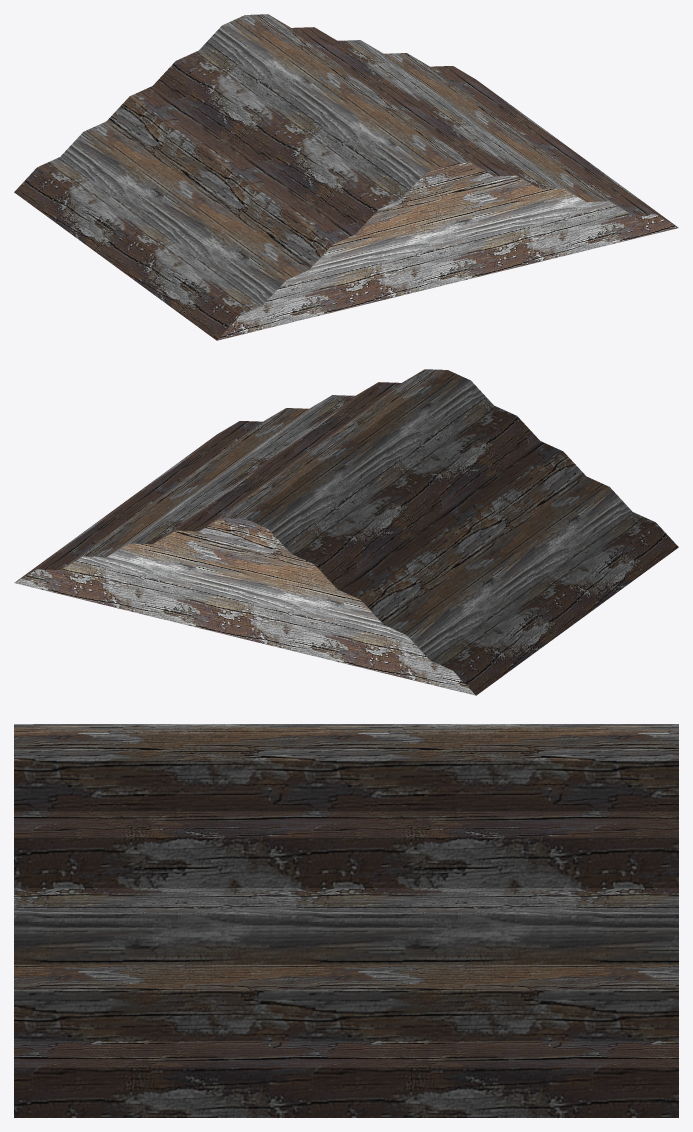
Rendered from minewood1.fbx.
3 renders of one model, top to bottom at view 1: azimuth 30°, elevation 25°; view 2: azimuth 150°, elevation 25°; view 3: azimuth 270°, elevation 25°, orthographic. The views are drawn at different scales.
Parts seen in each view (by area): view 1: minewood1; view 2: minewood1; view 3: minewood1.
Boxes of the visible parts, x1,y1,x2,y2 form: minewood1: (14,14,678,340); minewood1: (14,369,678,695); minewood1: (14,724,678,1117).
Size of the model in its own units: 40000 by 10001 by 30400.
